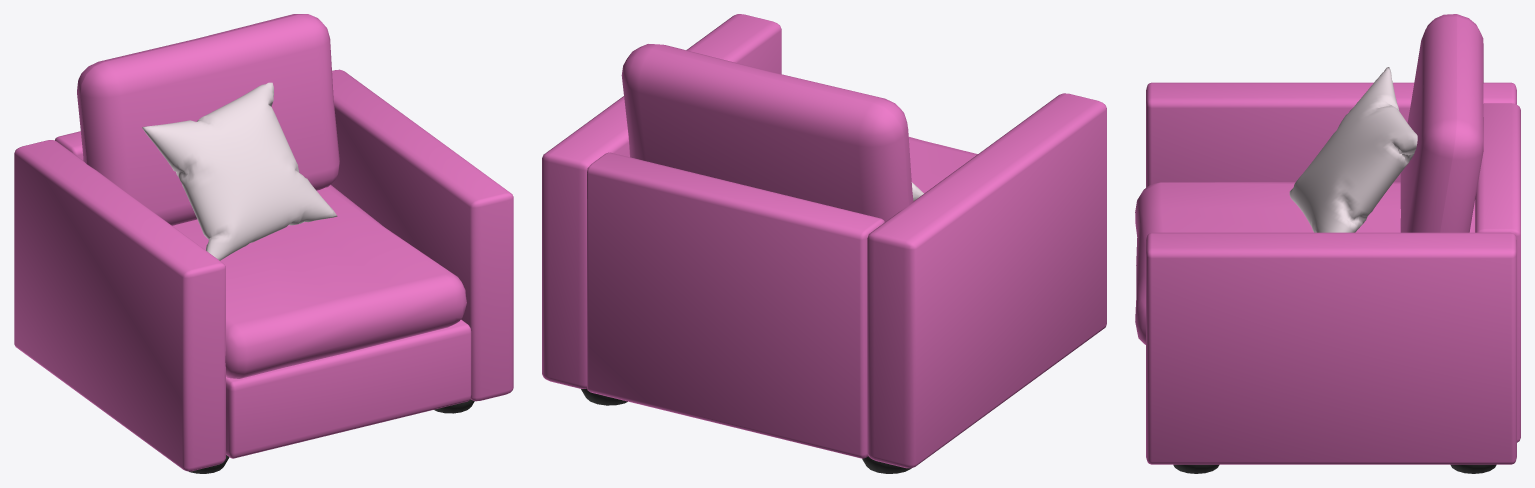
File: pink and white armchair.fbx
3 views of the same model, side by side, from view 1: azimuth 30°, elevation 25°; view 2: azimuth 150°, elevation 25°; view 3: azimuth 270°, elevation 25° (orthographic). The views are drawn at different scales.
Parts seen in each view (by area): view 1: Cube; view 2: Cube; view 3: Cube.
Part boxes in pixels (<box>): Cube: <box>14,14,513,473</box>; Cube: <box>542,14,1106,473</box>; Cube: <box>1135,14,1520,473</box>.
Size of the model in its own units: 135 by 120 by 127.
